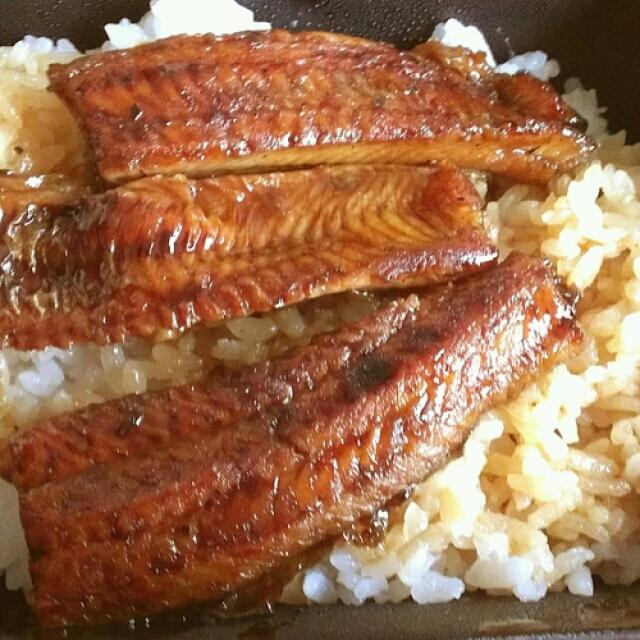熟制海鲜: (16, 16, 624, 624)
